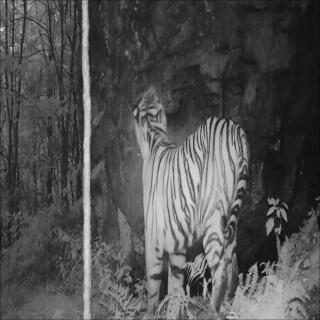Tiger: (132, 82, 248, 320)
